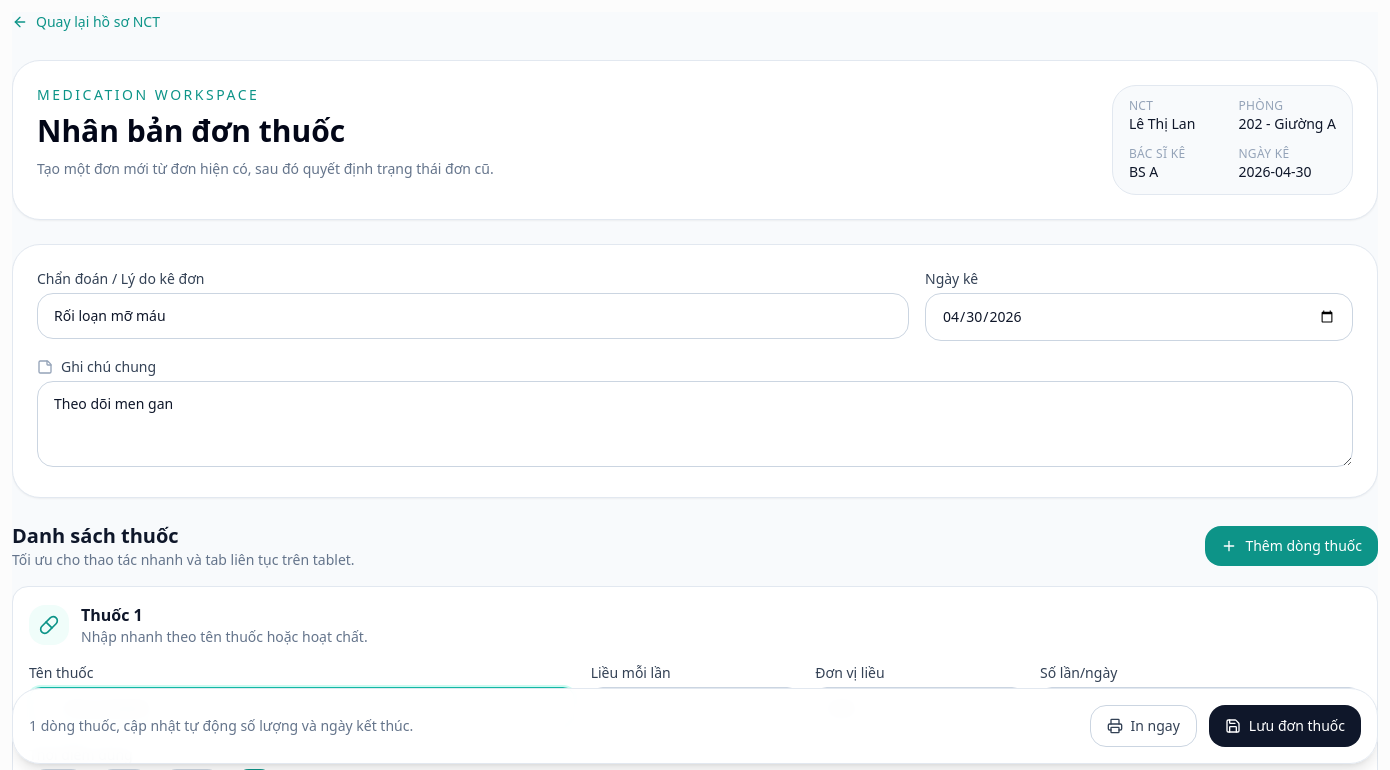
Test: PrescriptionEditorPage › duplicate mode prompts to end, pause, or keep the previous prescription active on save
What coordinates should you click on to do the following:
click the button "Lưu đơn thuốc"
I would click on:
 (1285, 726)
Its box is [1209,705,1361,747].
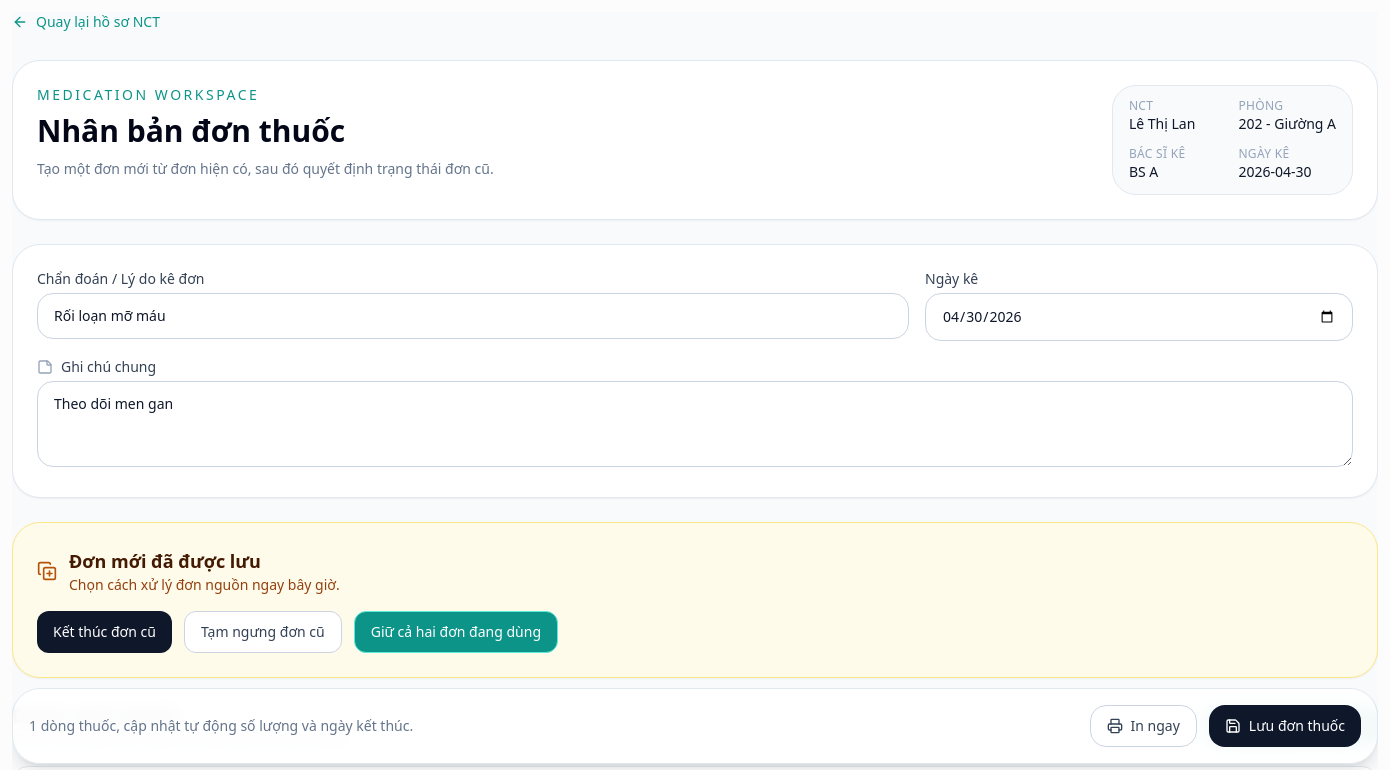
Expected: the button "Kết thúc đơn cũ" is shown, [37,611,172,653]
Expected: the button "Tạm ngưng đơn cũ" is shown, [184,611,342,653]
Expected: the button "Giữ cả hai đơn đang dùng" is shown, [354,611,558,653]
